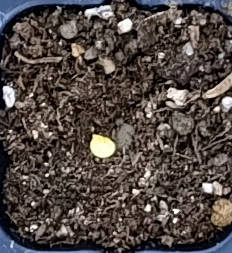pepper seed: (31, 53, 147, 212)
